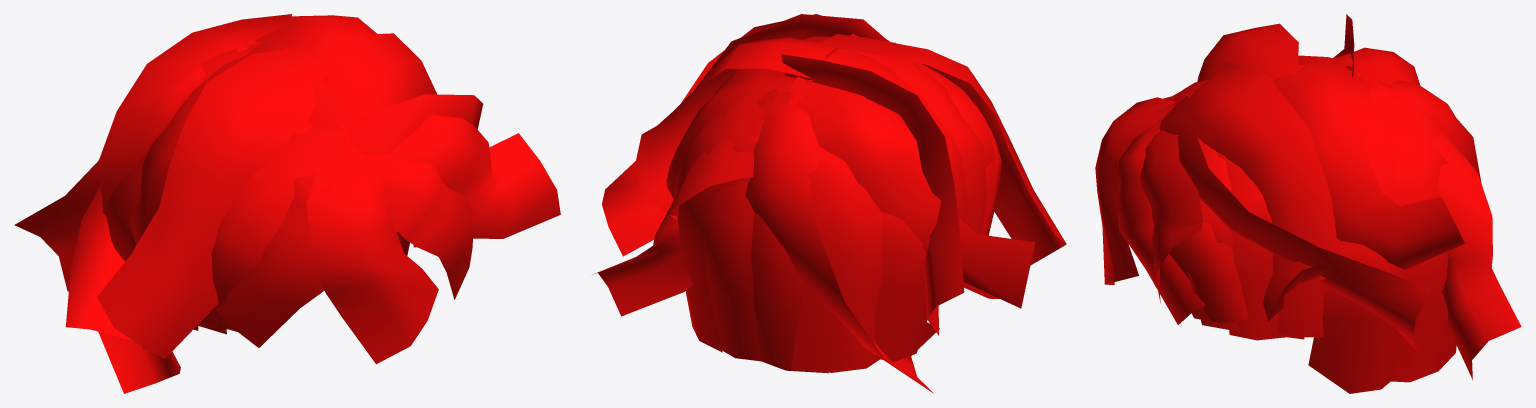
File: cortu_short_messy_hair_F.glb
3 renders of one model, left to right at view 1: azimuth 30°, elevation 25°; view 2: azimuth 150°, elevation 25°; view 3: azimuth 270°, elevation 25°, orthographic. The views are drawn at different scales.
Bounding box in the file's own units: 0.2636 × 0.199 × 0.2372.
Materials: 1 (1 with a texture image).
